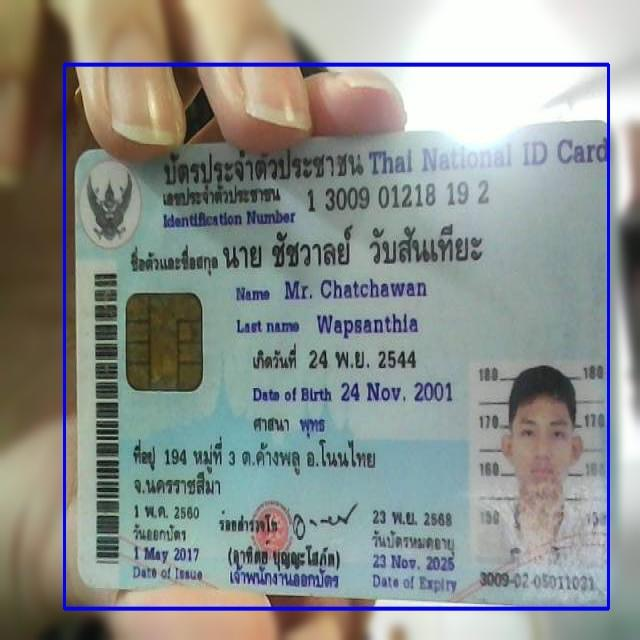Address_th: (127, 433, 378, 502)
Date_of_Birth: (339, 373, 456, 412)
Date_of_Expiry: (371, 551, 461, 579)
Date_of_Issue: (130, 542, 202, 565)
First_Name: (280, 271, 430, 304)
ID_Number: (303, 178, 494, 216)
Image: (469, 366, 604, 568)
Last_Name: (314, 308, 424, 342)
Thai_Name: (221, 223, 494, 272)
